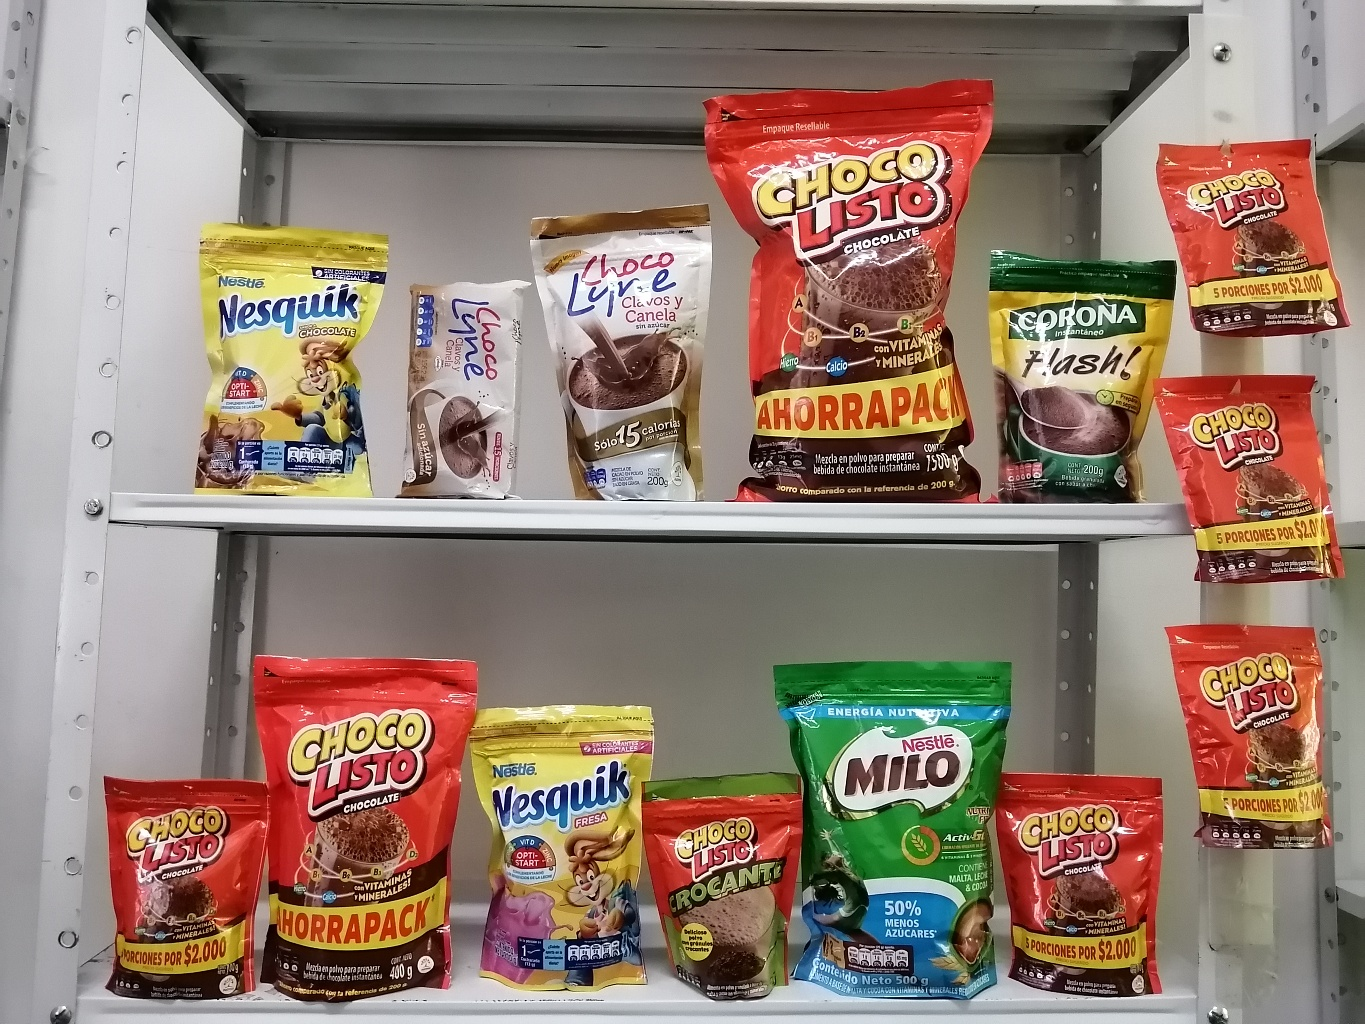COL0170102DYP10000: (651, 766, 804, 998)
COL0170103DYP1,500: (697, 84, 996, 502)
COL0170103DYP10000: (1152, 127, 1349, 344)
COL0170103DYP40000: (247, 644, 501, 984)
COL0170205DYP50000: (771, 662, 1016, 991)
COL0170303DYP20000: (196, 216, 397, 494)
COL0170305DYP20000: (466, 687, 659, 995)
